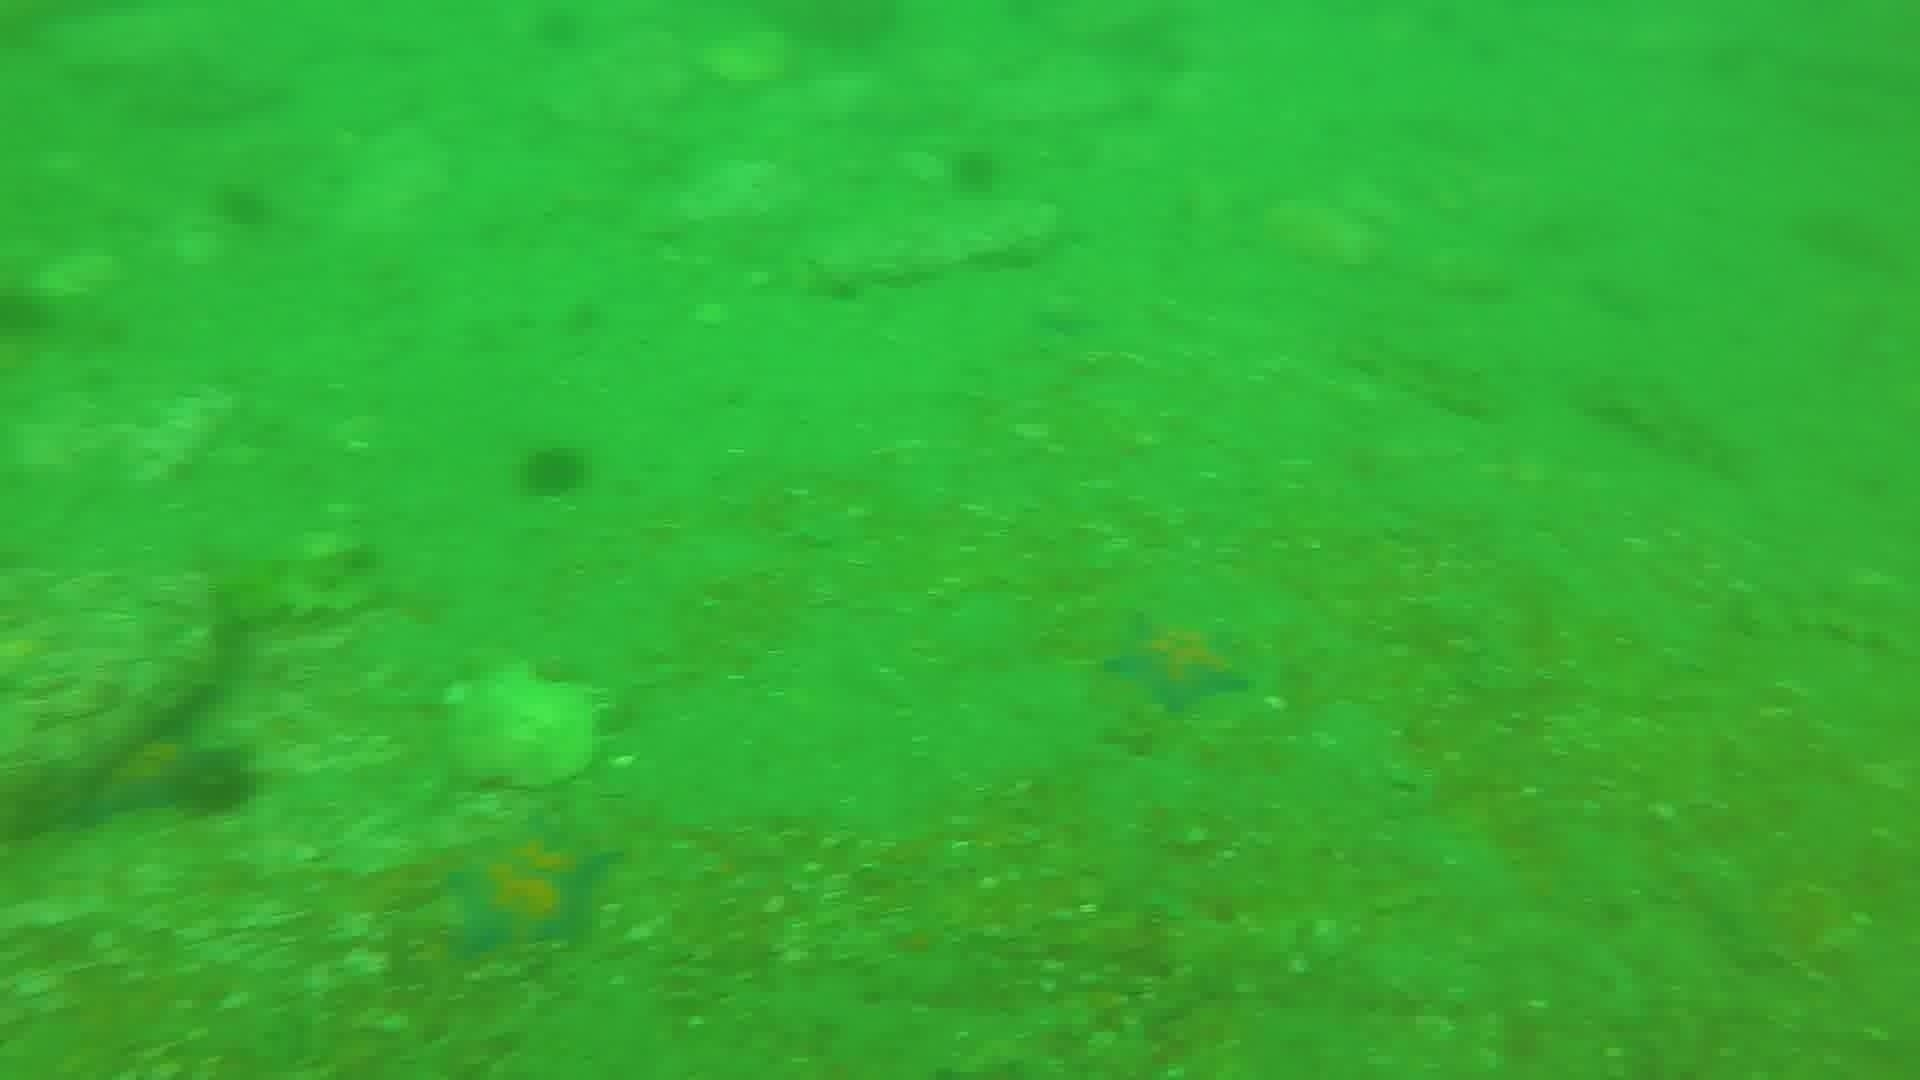echinus: (166, 742, 262, 824), (513, 439, 593, 506), (208, 175, 278, 236), (943, 141, 1009, 200)
holothurian: (194, 533, 438, 636), (1575, 359, 1756, 481), (1729, 568, 1917, 657), (1342, 324, 1510, 423)
starfish: (440, 816, 620, 964), (74, 727, 261, 829), (1095, 611, 1255, 719)
